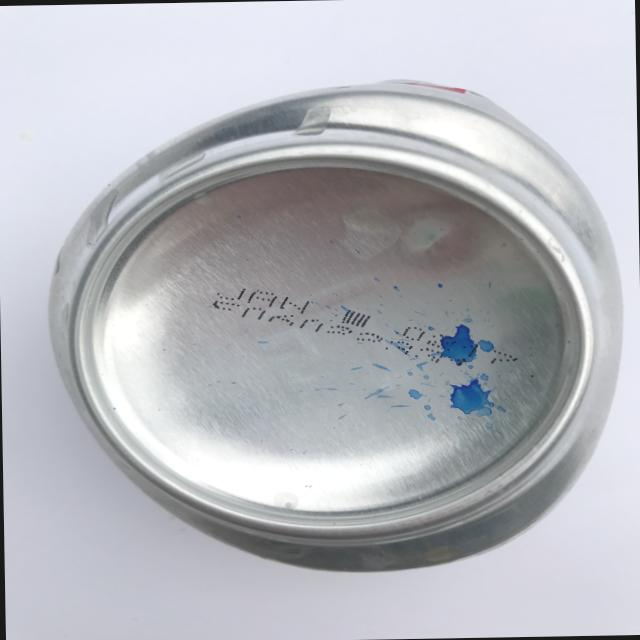Metal: (32, 60, 640, 600)
